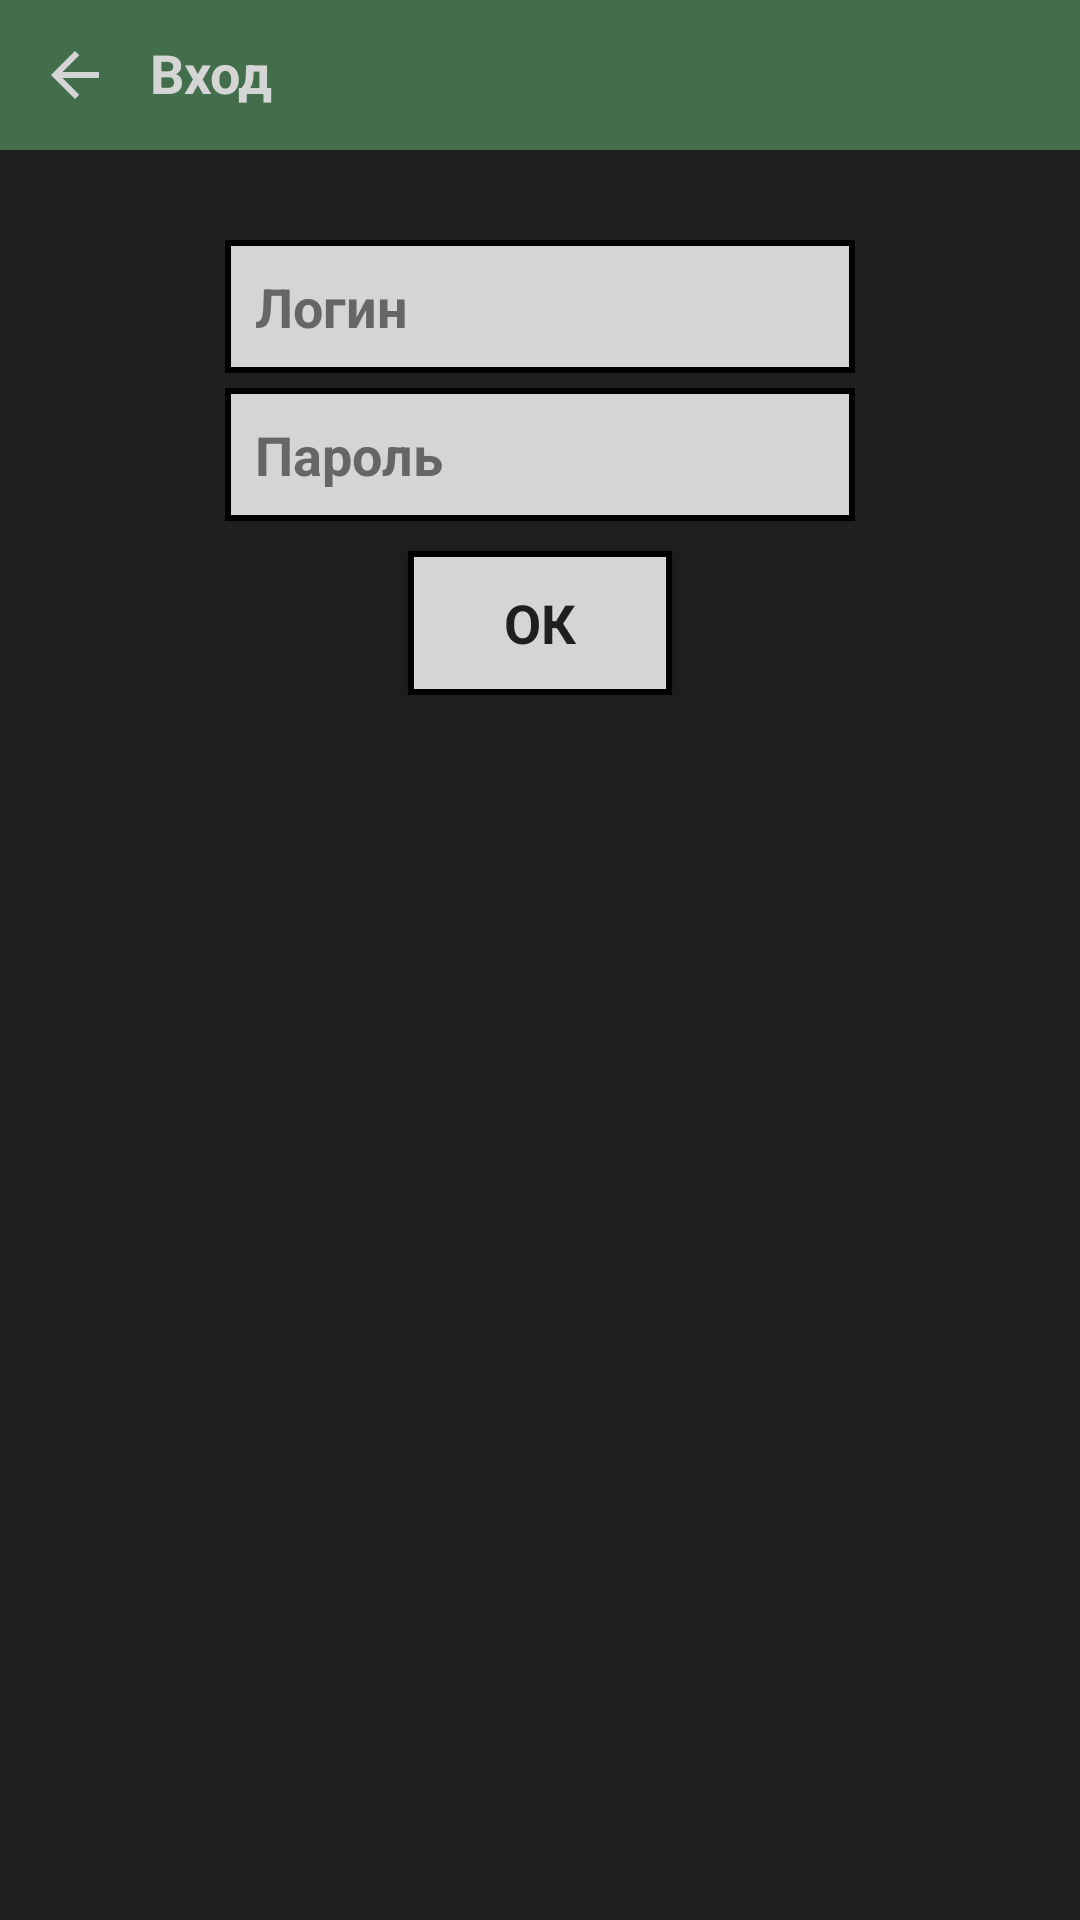

Where to tap for icons on this 1080*1920 app screen, as (x,y):
arrow back: (75,75)
